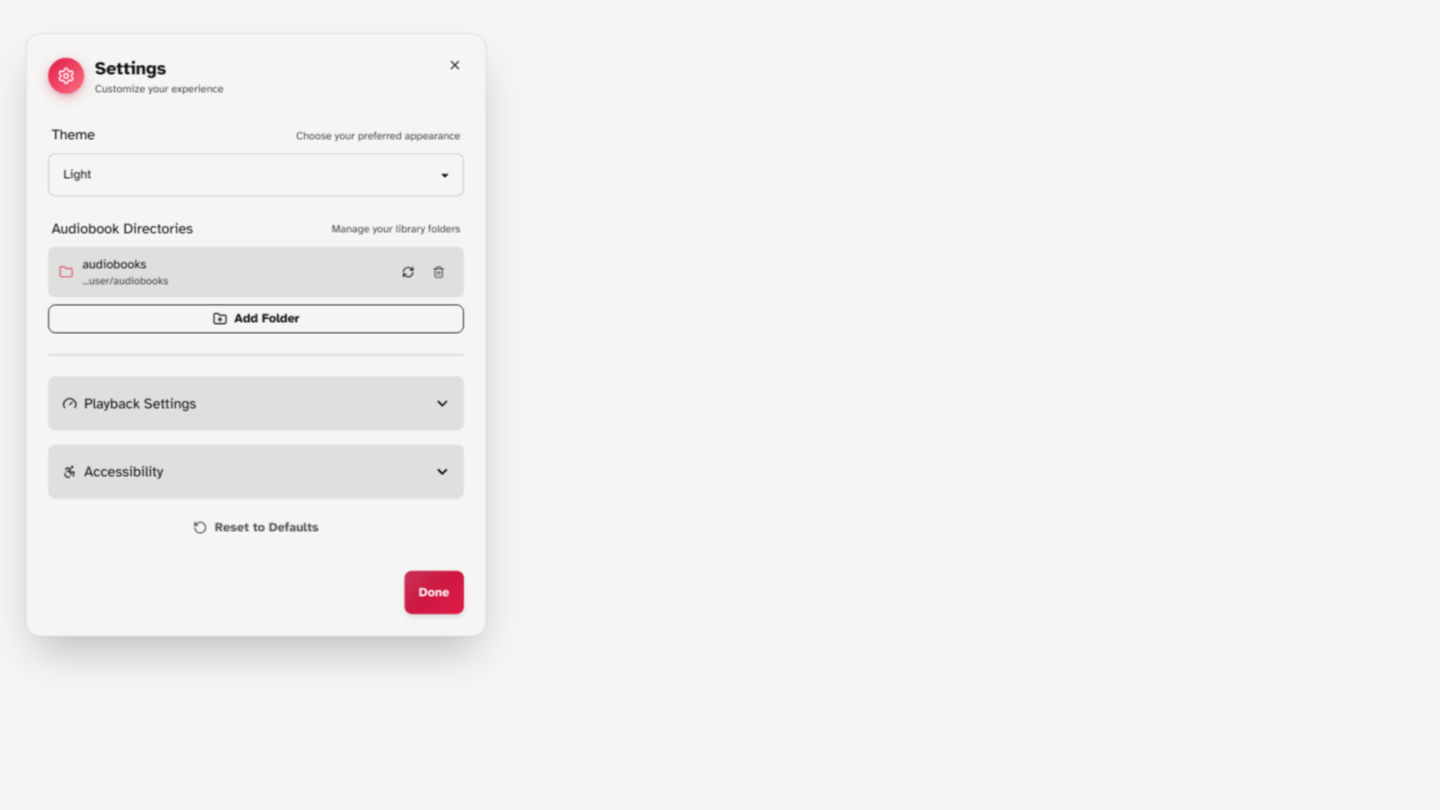
SettingsModal - Directory Management › confirmation dialog › shows confirmation dialog when remove is clicked
// Click remove button
Click the button named "Remove directory": (439,272) [424,261,453,283]
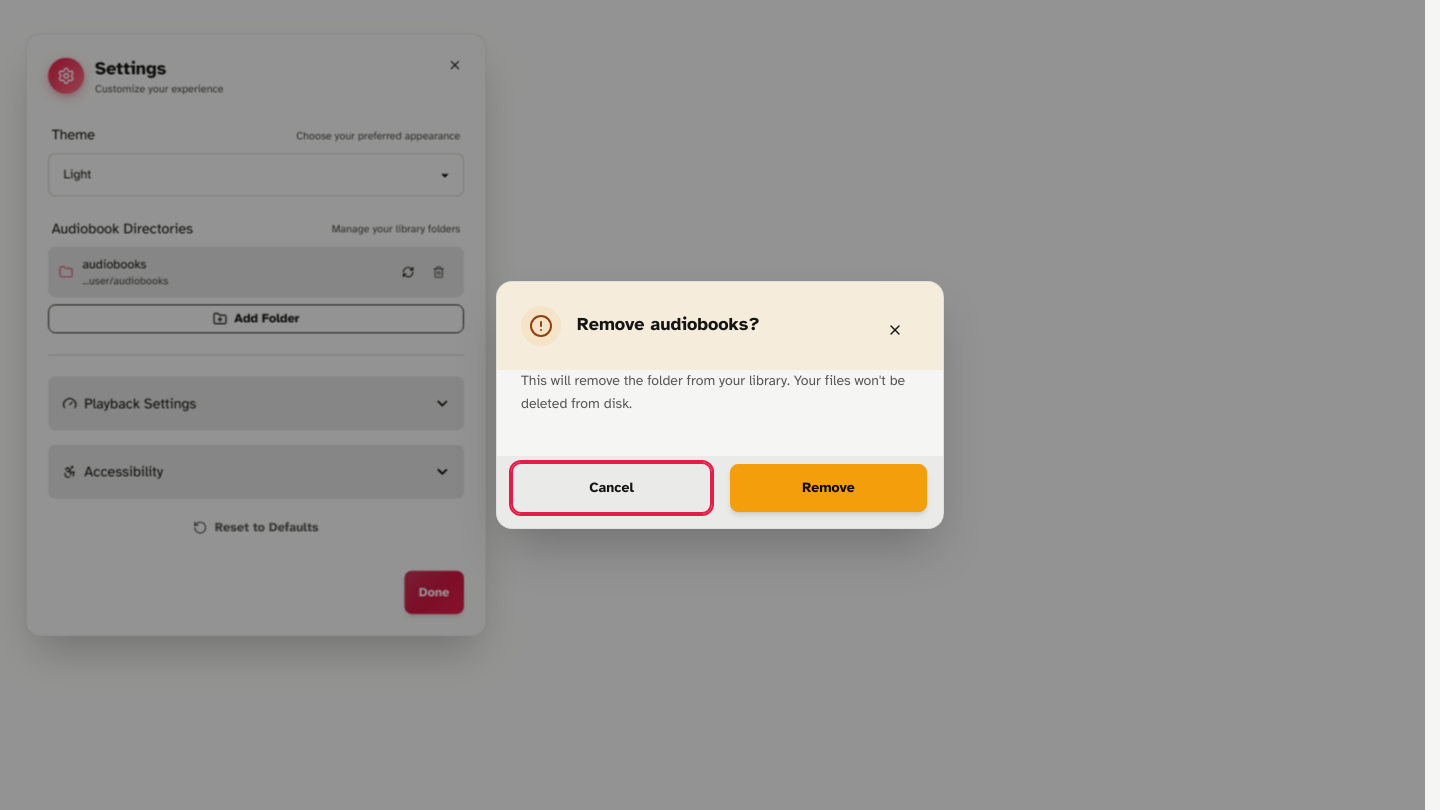
Result: the heading "Remove audiobooks?" is shown at [577,313,760,335]
